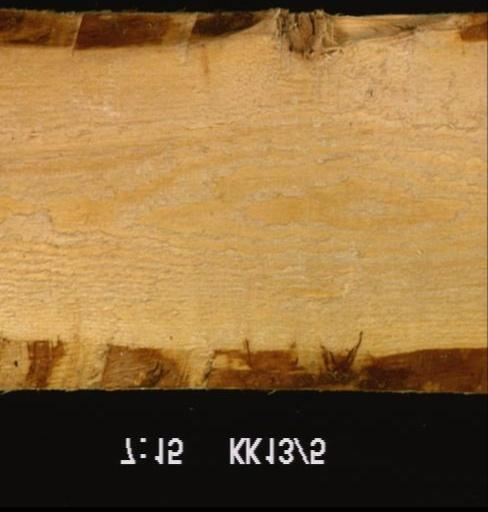wave: (0, 336, 486, 390), (0, 12, 486, 65)
